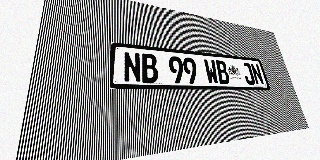9: (168, 56, 185, 84), (182, 57, 199, 84)
B: (141, 53, 159, 83), (215, 60, 231, 84)
J: (241, 62, 256, 85)
N: (123, 51, 142, 83), (250, 63, 265, 85)
W: (203, 59, 220, 84)
